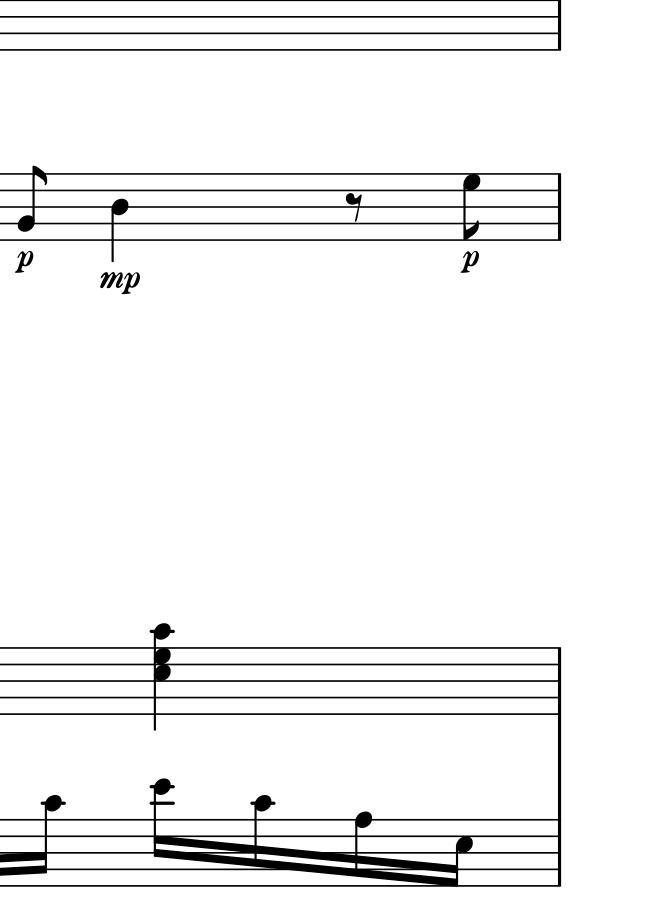16_10: (34, 794, 66, 889), (251, 795, 272, 889)
16_12: (151, 777, 174, 888)
16_3: (446, 819, 474, 888)
16_8: (353, 808, 372, 889)
4_4: (109, 173, 131, 260)
4_th: (148, 621, 174, 736)
8_2: (16, 163, 47, 241)
8_7: (461, 172, 483, 243)
Rests8: (344, 190, 368, 223)
Single_barline: (551, 174, 567, 240), (551, 648, 567, 713), (551, 820, 567, 885), (552, 1, 567, 51)
mp: (97, 268, 143, 299)
p: (458, 248, 482, 277), (13, 249, 35, 277)
